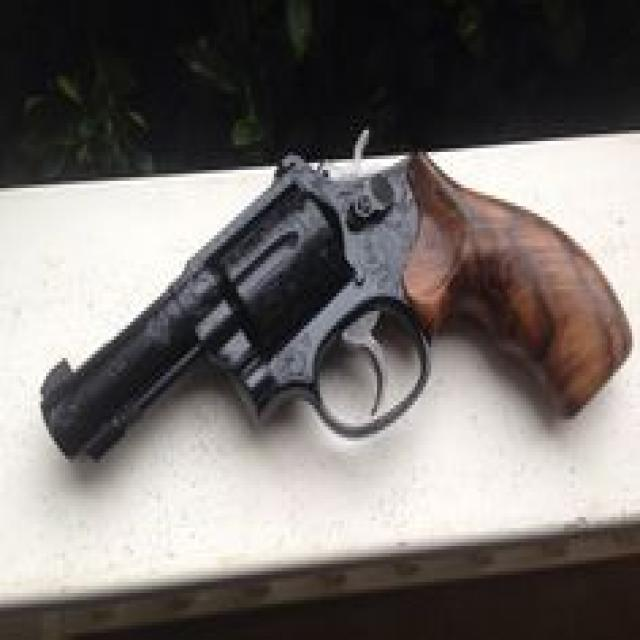revolver: (19, 63, 639, 545)
